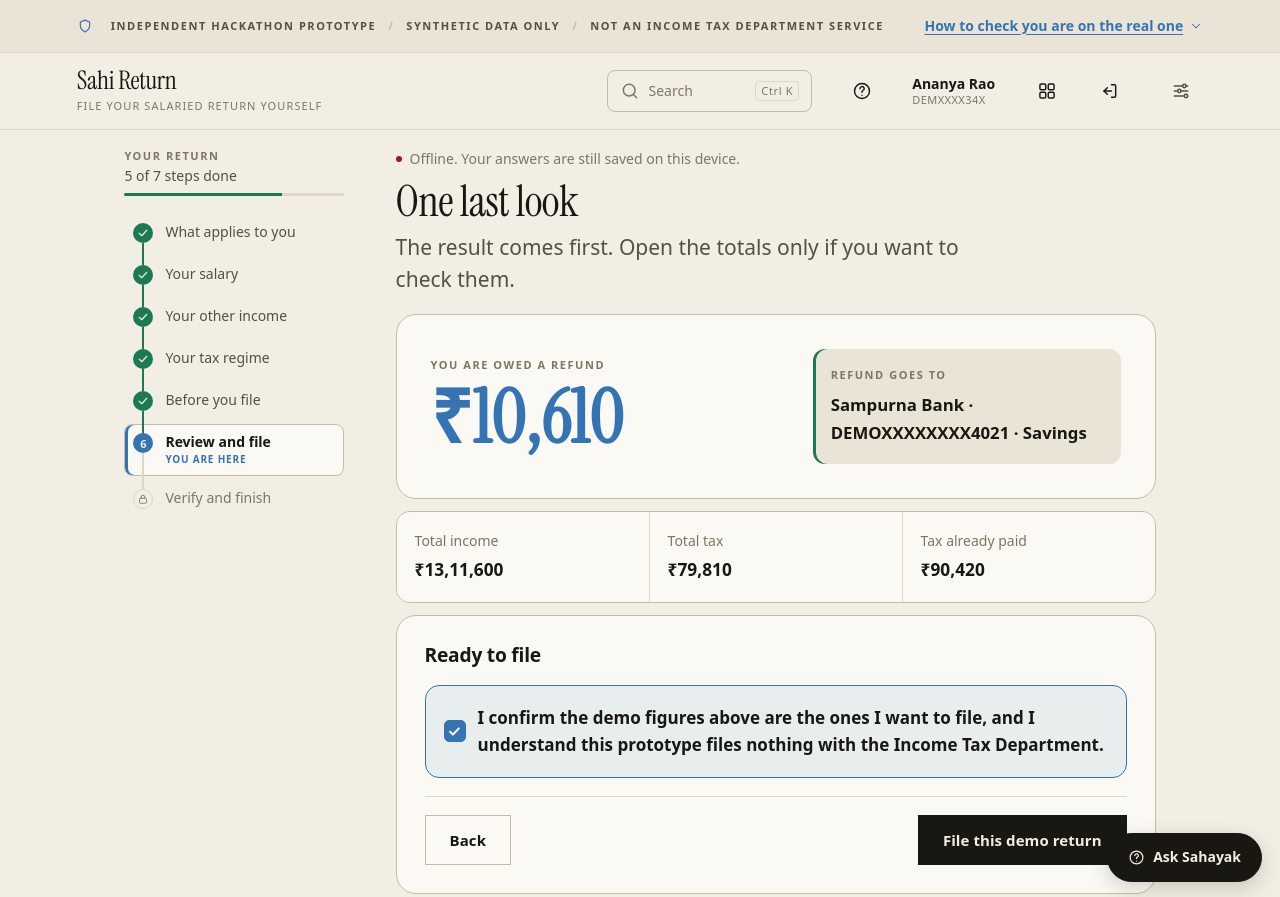
Test: Sahi Return salaried filing journey › queues the filing when the browser is offline
Expected: the heading "One last look" is shown, [396,173,578,229]
Step 1. Click the button "File this demo return" → (1022, 840), box [918,815,1127,865]
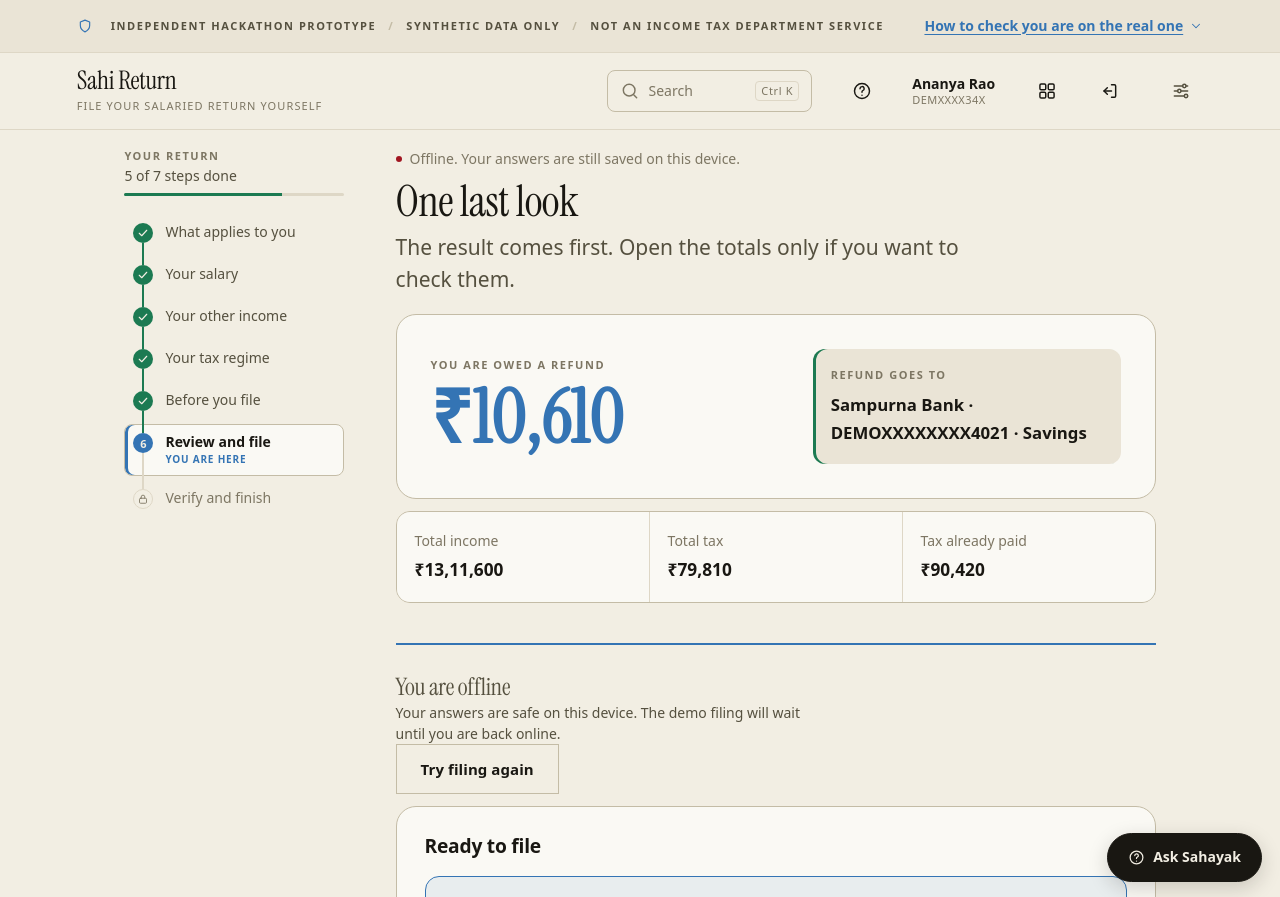
Expected: the text "You are offline" is shown, [396,671,510,702]
Expected: the button "Try filing again" is shown, [396,744,559,794]
